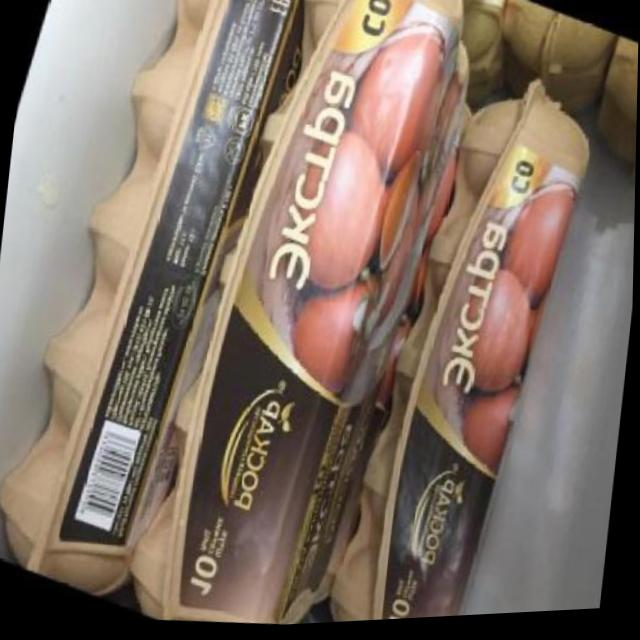Egg: (116, 0, 502, 635), (306, 42, 617, 627)
